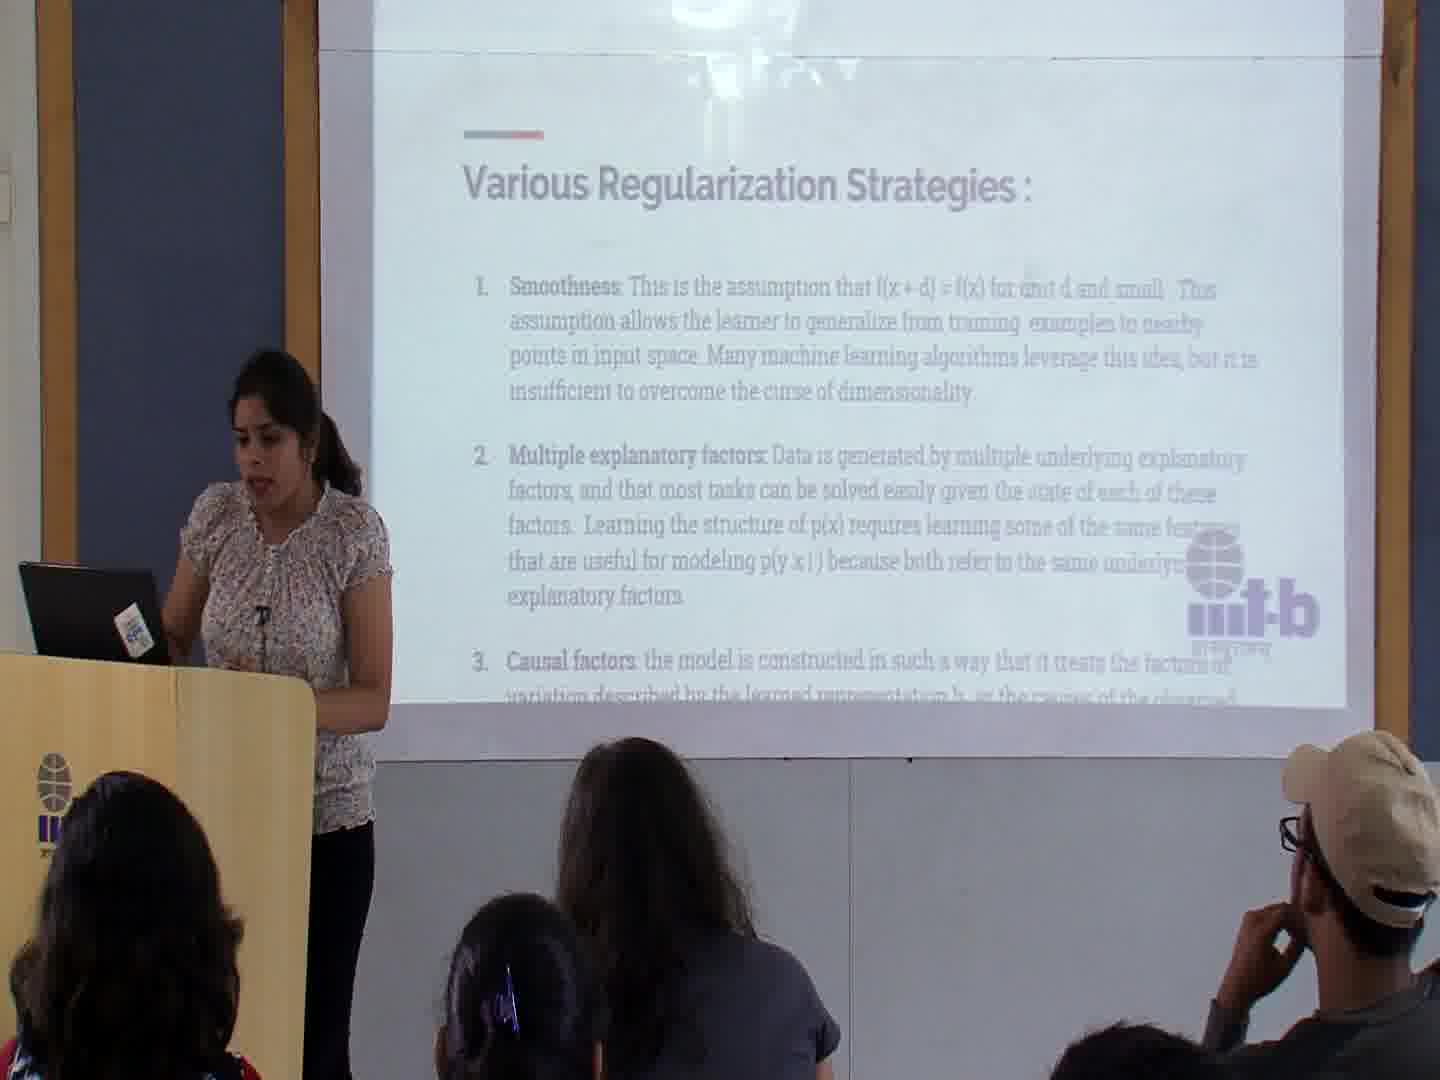slide: (370, 1, 1348, 710)
